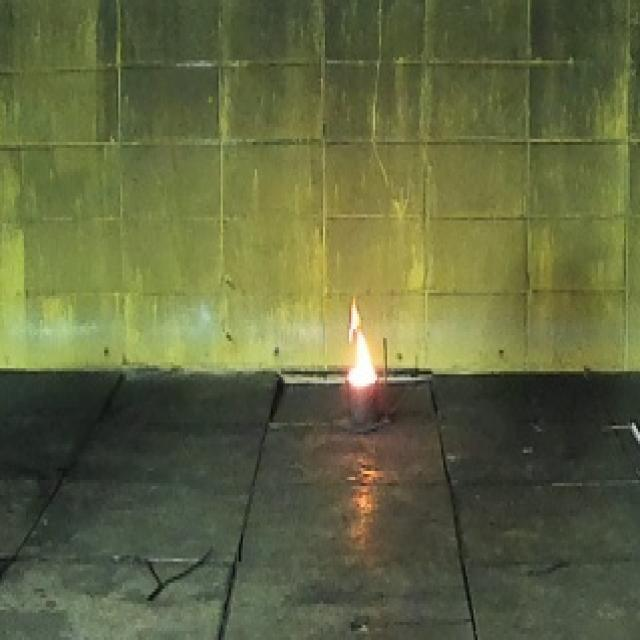Fire: (347, 295, 375, 387)
